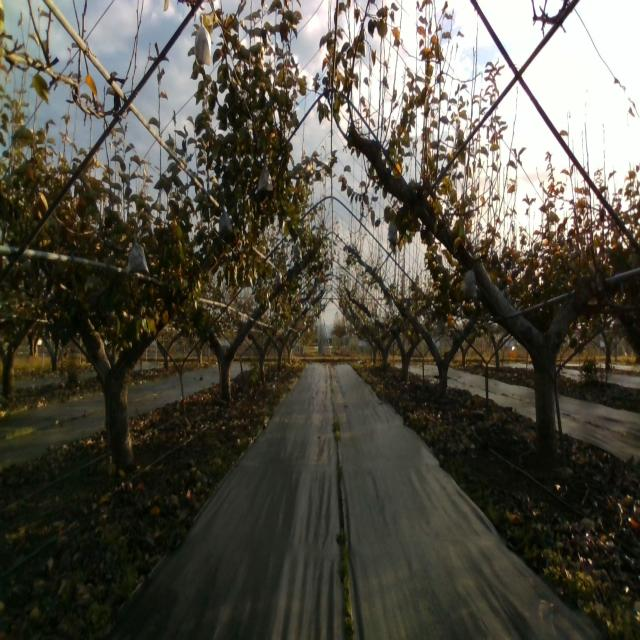pearbags: (195, 14, 212, 66), (127, 234, 149, 274), (257, 161, 273, 191), (463, 268, 477, 302), (218, 210, 233, 238), (387, 218, 398, 245)
